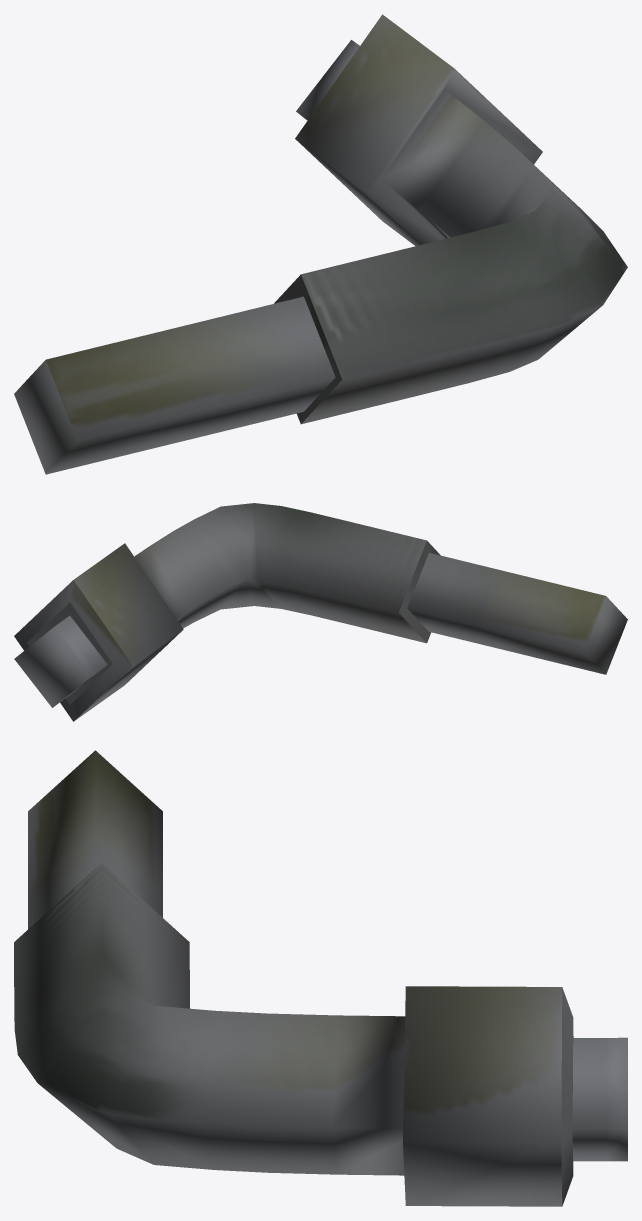
File: Pipe_Short.fbx
3 views of the same model, one above another, from view 1: azimuth 30°, elevation 25°; view 2: azimuth 150°, elevation 25°; view 3: azimuth 270°, elevation 25° (orthographic). The views are drawn at different scales.
Parts seen in each view (by area): view 1: NurbsPath.002, NurbsPath.003; view 2: NurbsPath.002, NurbsPath.003; view 3: NurbsPath.002, NurbsPath.003.
Boxes of the visible parts, x1,y1,x2,y2 form: NurbsPath.002: (274, 14, 627, 424); NurbsPath.003: (14, 40, 359, 474); NurbsPath.002: (14, 503, 440, 721); NurbsPath.003: (14, 552, 627, 707); NurbsPath.002: (14, 863, 573, 1206); NurbsPath.003: (28, 750, 627, 1161).
Size of the model in its own units: 2.04 by 0.6271 by 1.59.
